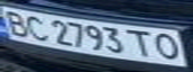2: (45, 17, 72, 47)
3: (103, 25, 127, 56)
7: (66, 20, 87, 50)
9: (84, 23, 106, 53)
B: (0, 8, 33, 37)
C: (21, 12, 51, 43)
O: (148, 30, 187, 62)
T: (124, 27, 157, 58)
